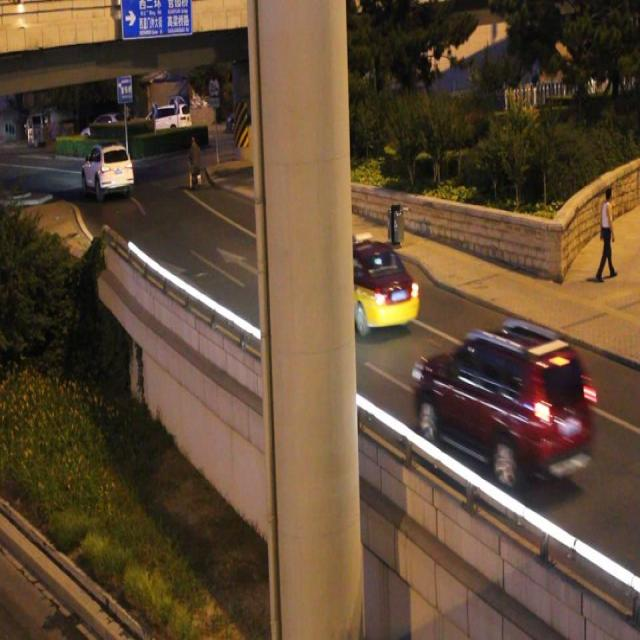car: (410, 320, 592, 488), (311, 233, 419, 336)
